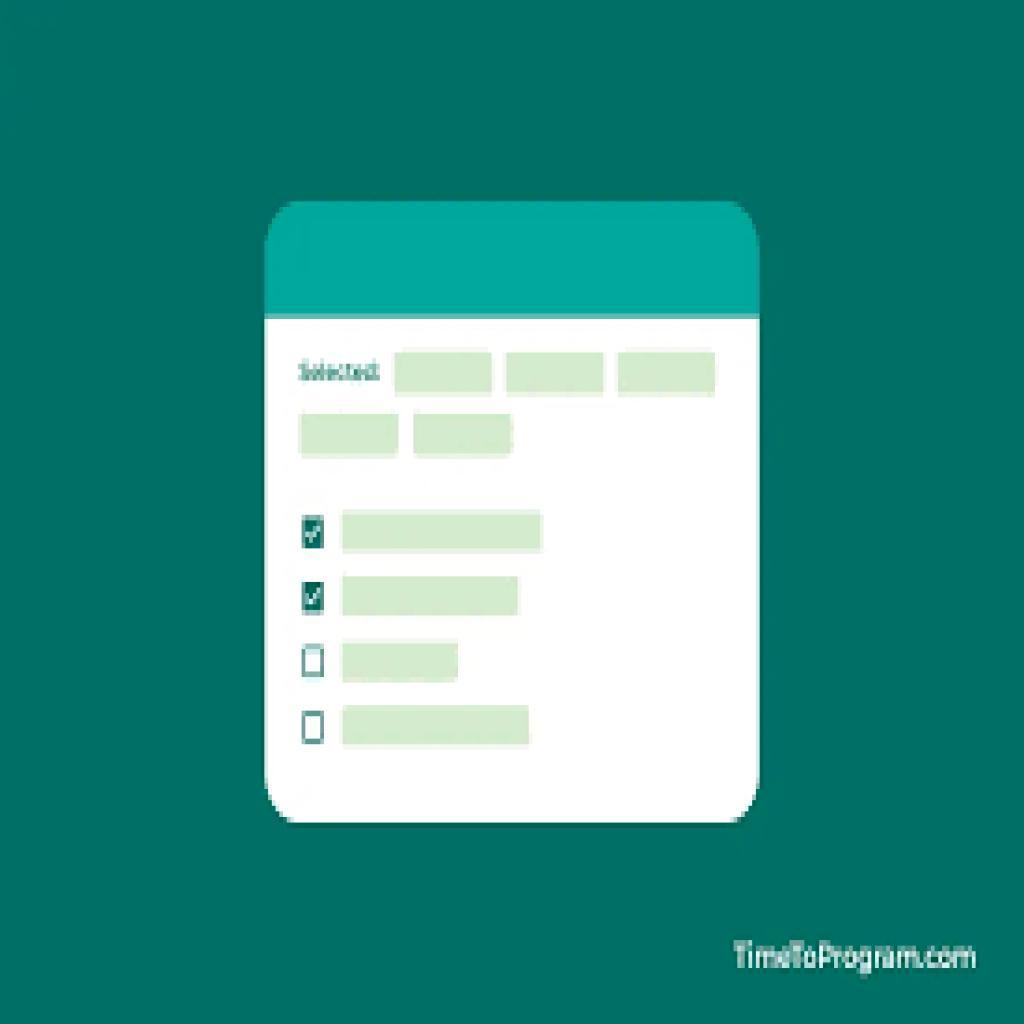checkbox: (302, 516, 325, 550), (302, 584, 325, 616), (303, 646, 325, 677), (303, 713, 324, 742)
